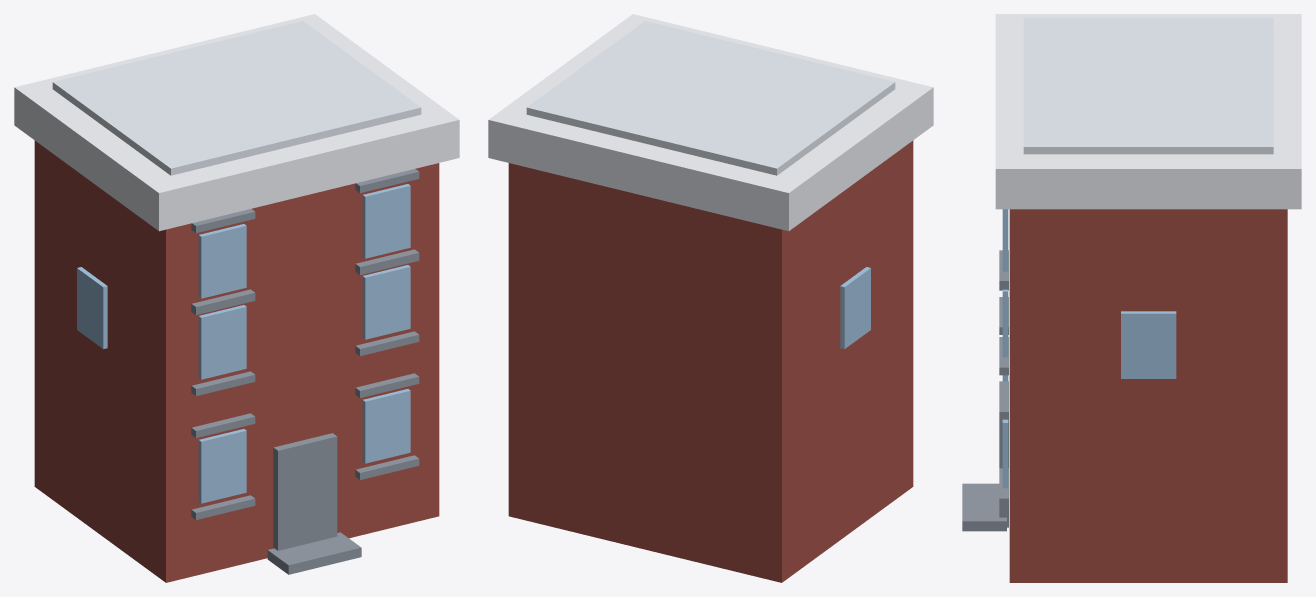
File: town_house.fbx
3 renders of one model, left to right at view 1: azimuth 30°, elevation 25°; view 2: azimuth 150°, elevation 25°; view 3: azimuth 270°, elevation 25°, orthographic. The views are drawn at different scales.
Visible parts, largest first — view 1: town_house; view 2: town_house; view 3: town_house.
Boxes of the visible parts, x1,y1,x2,y2 form: town_house: (14, 14, 459, 582); town_house: (488, 14, 933, 582); town_house: (962, 14, 1301, 582).
Size of the model in its own units: 2629 by 3400 by 2430.
